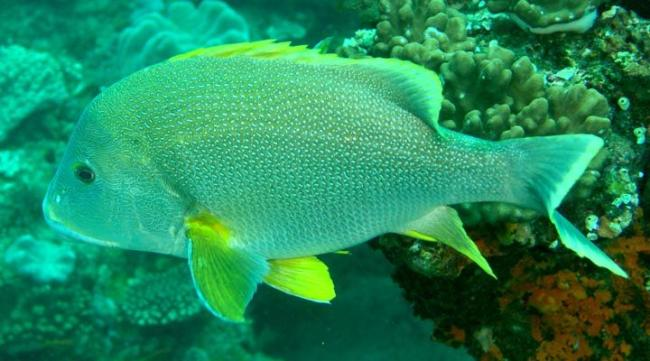fish: (42, 40, 632, 323)
